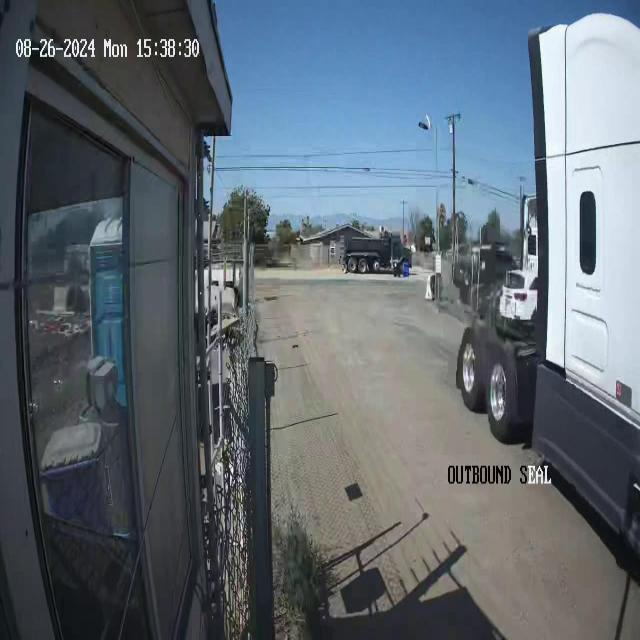TRUCK_IN: (454, 0, 640, 576)
